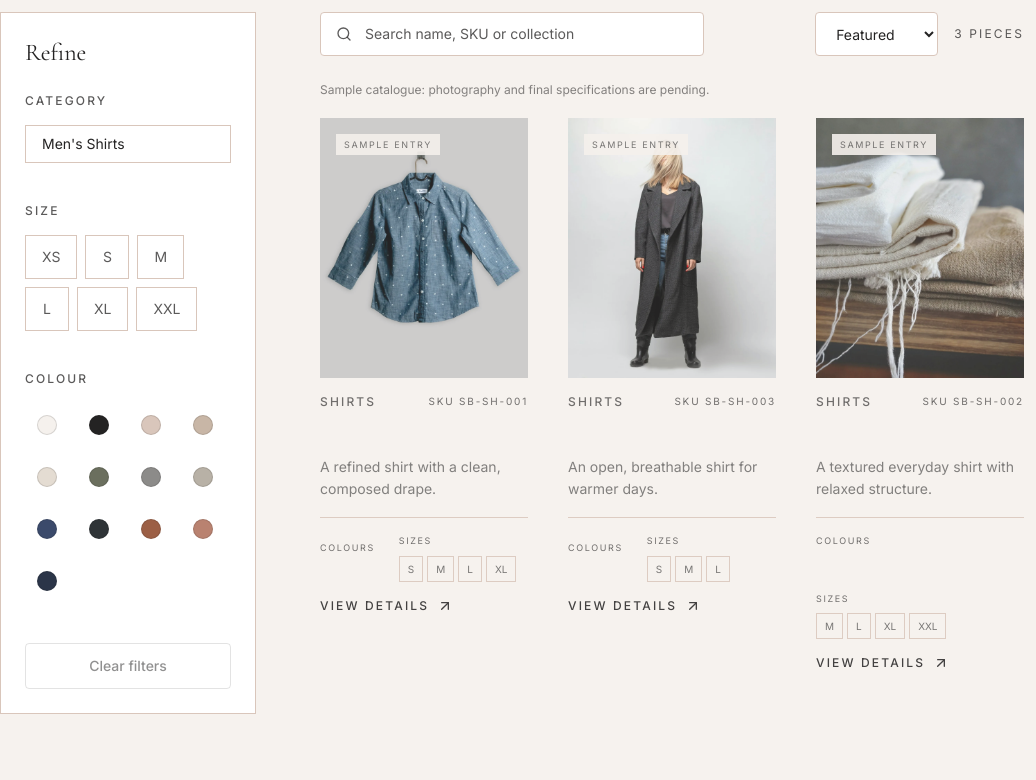
Test: catalog explorer › keeps the locked category clear-filter action disabled until a user filter is applied
Expected: the button "Clear filters" is disabled, left=25, top=643, right=231, bottom=689
Click the button "M" at {"x": 161, "y": 257}, box left=137, top=235, right=184, bottom=279
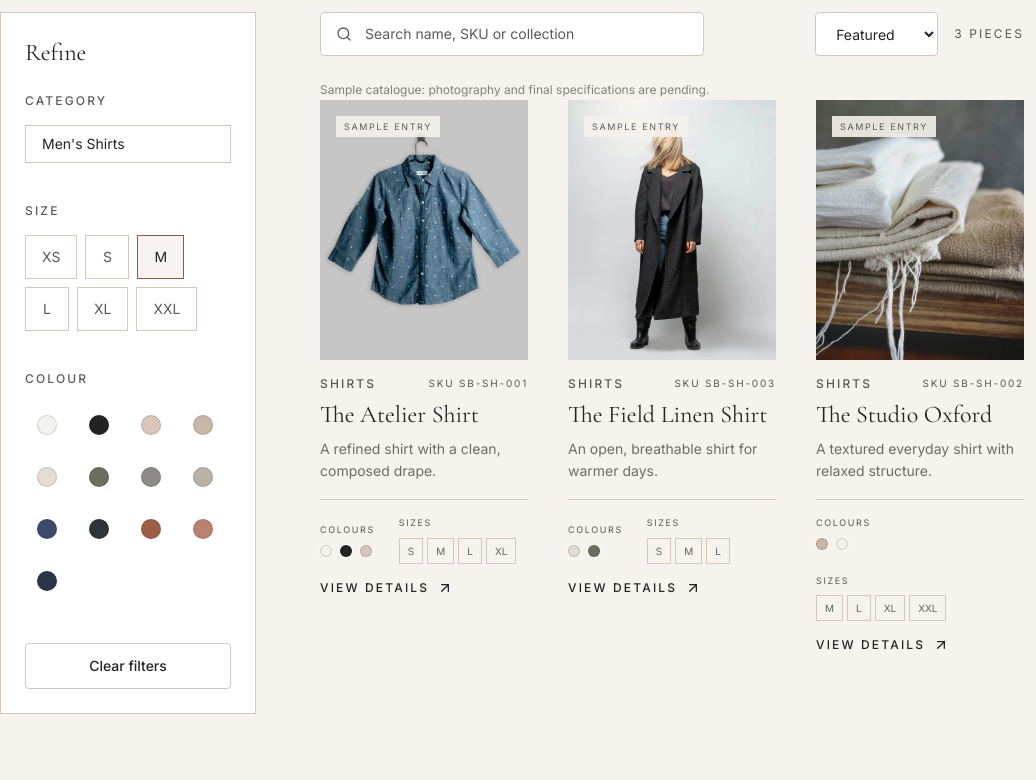
Now the button "Clear filters" is enabled, box left=25, top=643, right=231, bottom=689
